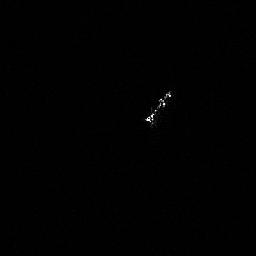ship: (142, 86, 176, 127)
